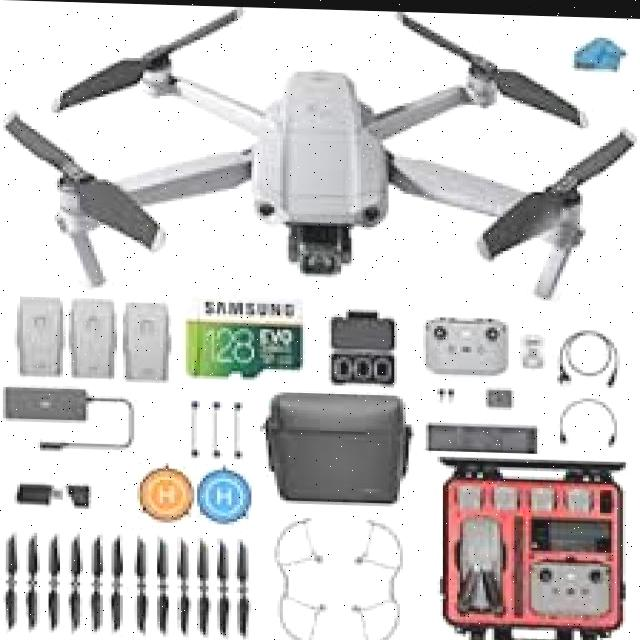drone: (0, 19, 640, 300)
